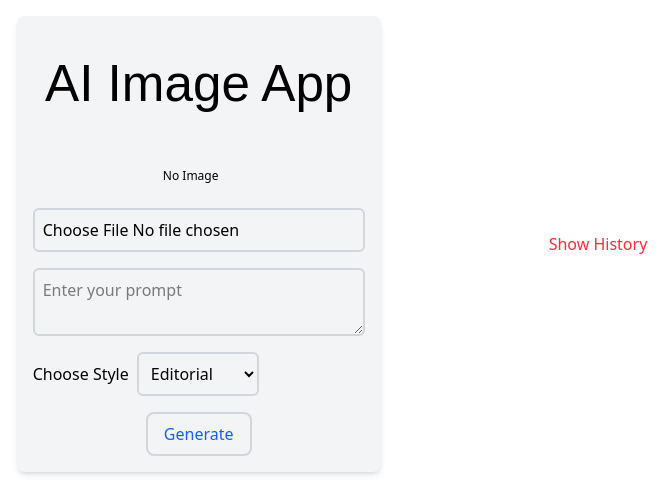
Test: App Component › shows history when show history button is clicked
The width and height of the screenshot is (672, 493).
Step 1. Click the button "Show History" → (598, 244), box [541,224,655,264]
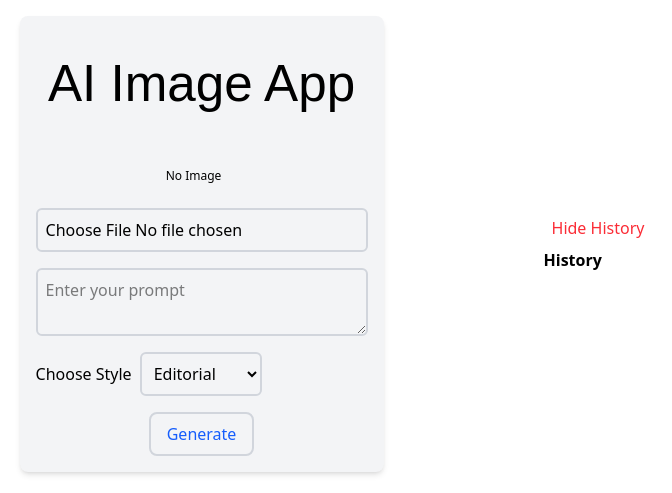
Expected: the heading "History" is shown, [544,249,602,271]
